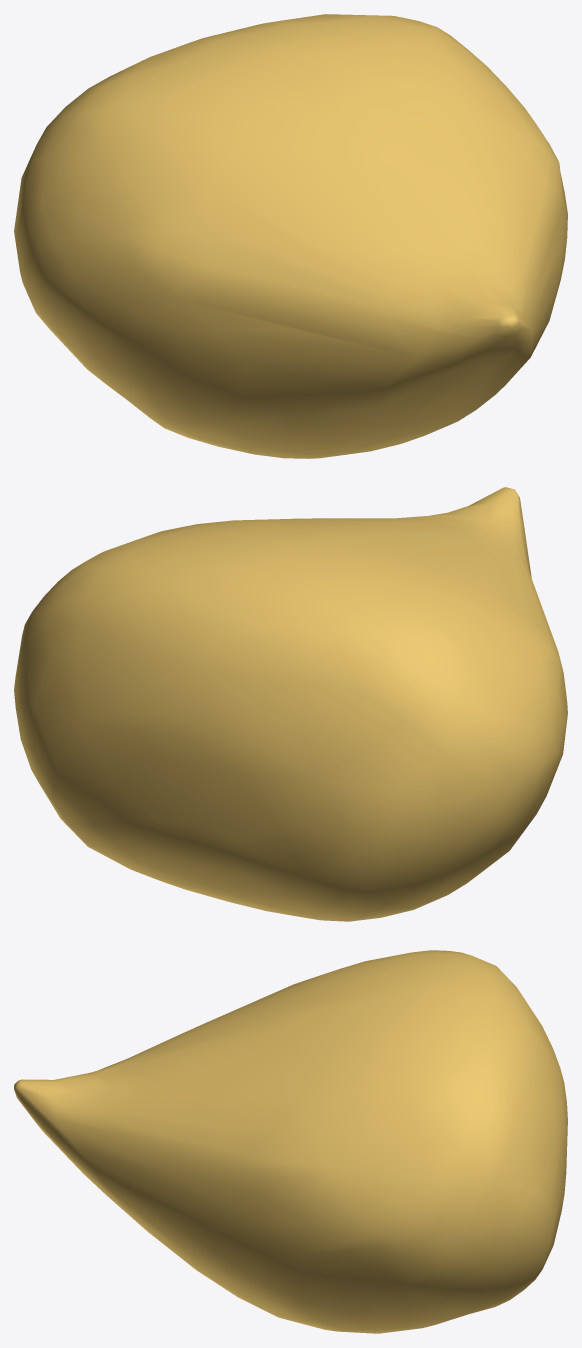
Rendered from visceras-urinary-bladder.glb.
3 renders of one model, top to bottom at view 1: azimuth 30°, elevation 25°; view 2: azimuth 150°, elevation 25°; view 3: azimuth 270°, elevation 25°, orthographic. The views are drawn at different scales.
Parts seen in each view (by area): view 1: Urinary bladder; view 2: Urinary bladder; view 3: Urinary bladder.
Part boxes in pixels (x1=…): Urinary bladder: x1=14, y1=14, x2=567, y2=458; Urinary bladder: x1=14, y1=487, x2=567, y2=921; Urinary bladder: x1=14, y1=950, x2=567, y2=1333.
Size of the model in its own units: 0.0745 by 0.0513 by 0.0833.
